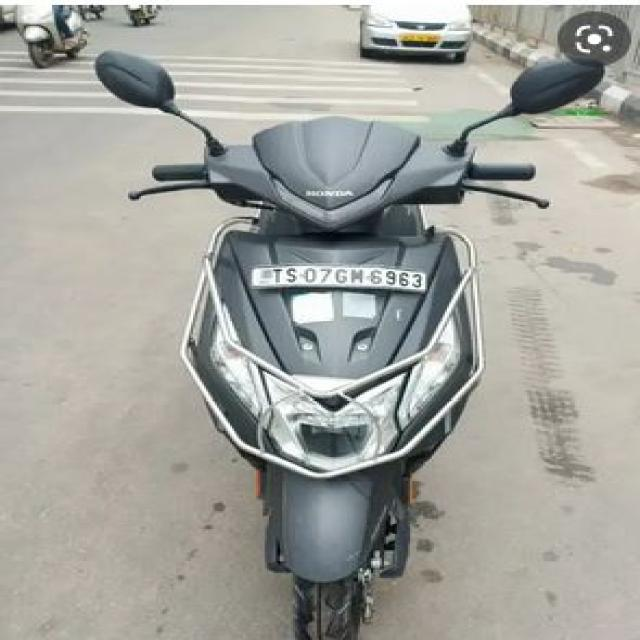license_plate: (248, 263, 428, 292)
